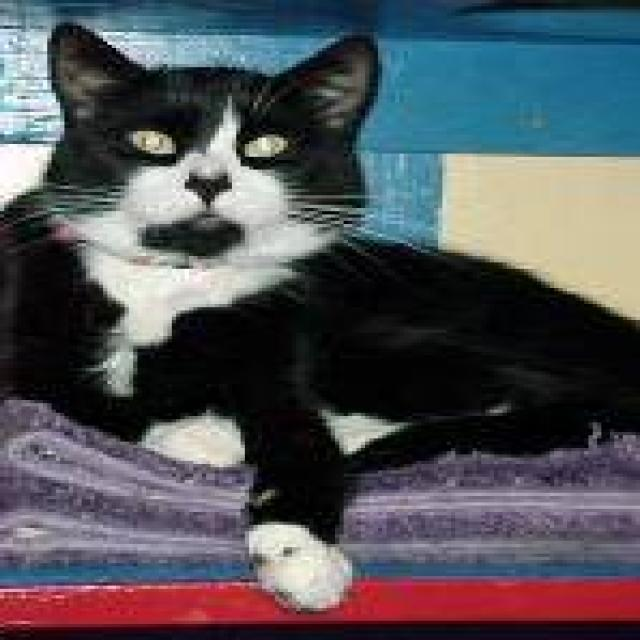cat: (0, 19, 636, 611)
